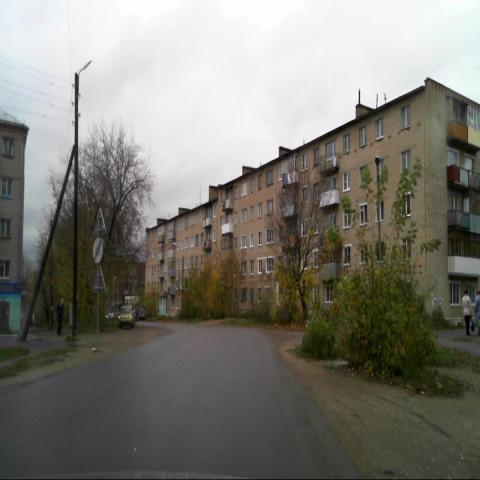3_25: (92, 236, 104, 262)
